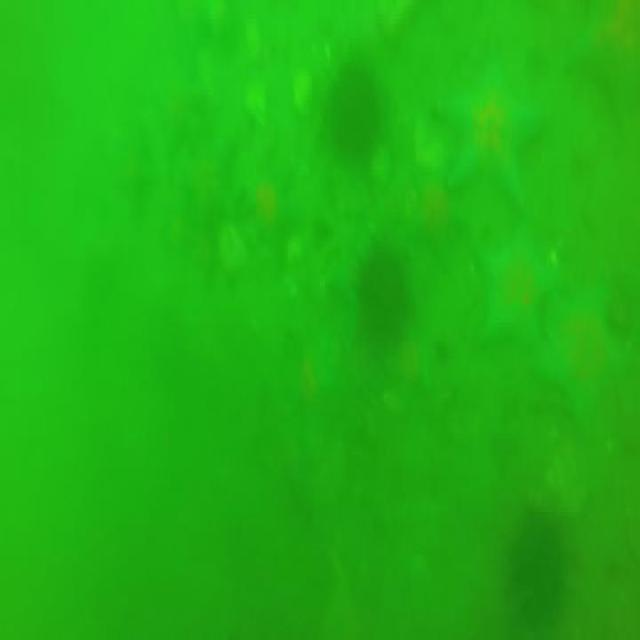echinus: (508, 509, 574, 618), (357, 258, 407, 357), (325, 63, 375, 153)
starfish: (440, 57, 543, 202), (472, 237, 549, 373), (557, 300, 624, 435)
